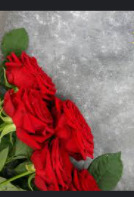RedRose: (1, 86, 57, 149), (52, 100, 101, 162)
